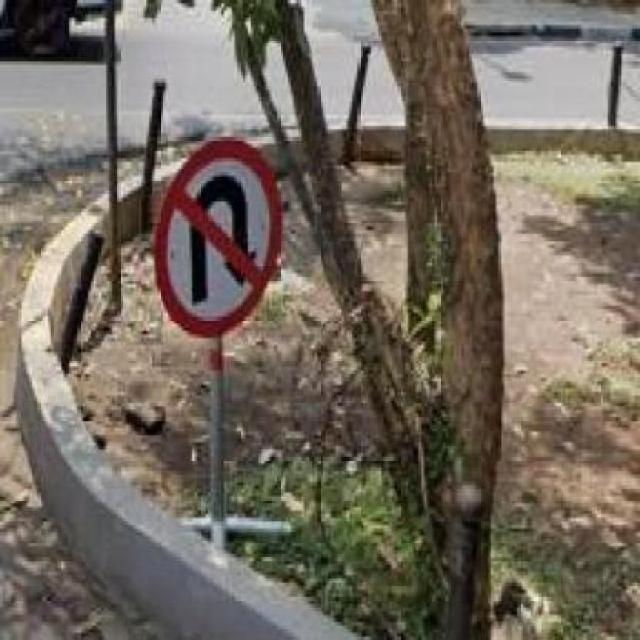u turn prohibited: (147, 130, 284, 335)
